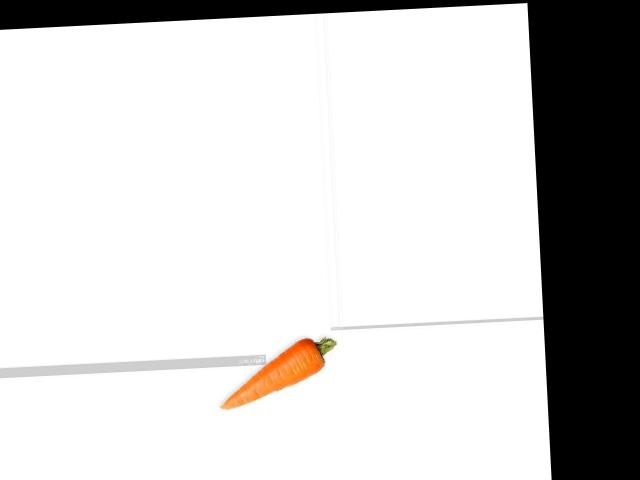carrot: (216, 334, 339, 412)
